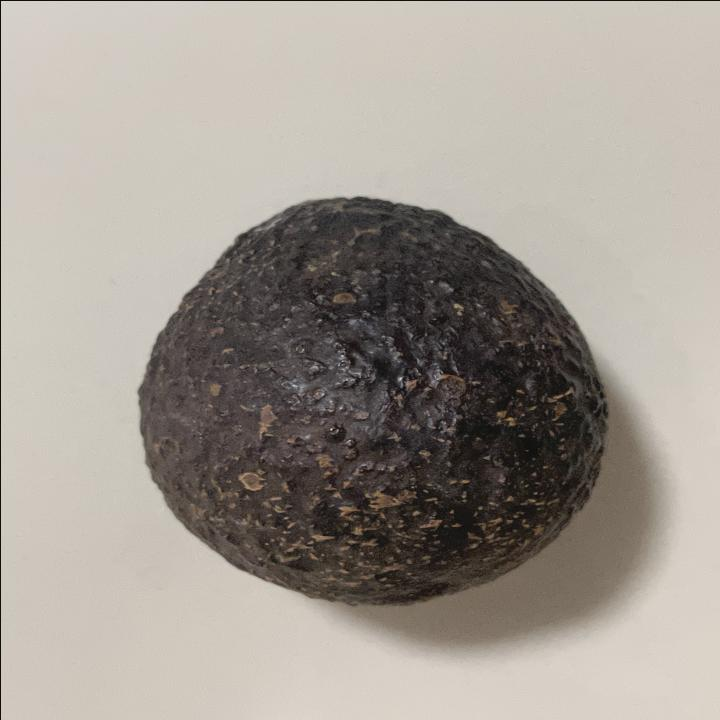Level2: (129, 190, 615, 612)
